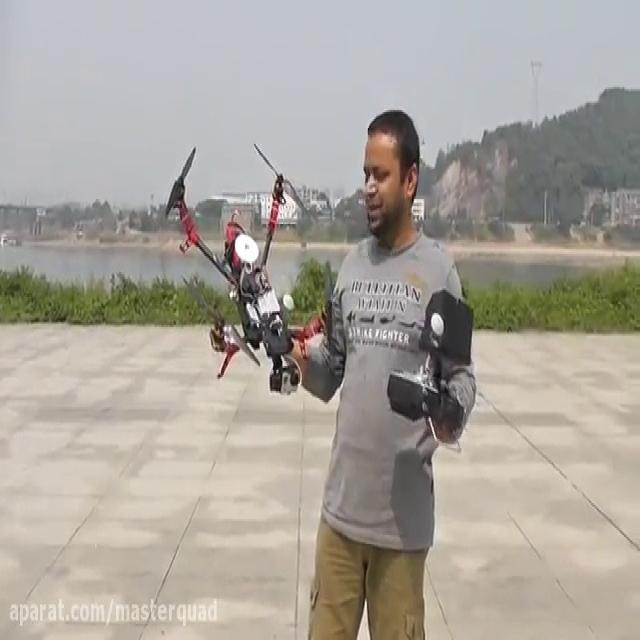drone: (161, 136, 336, 398)
